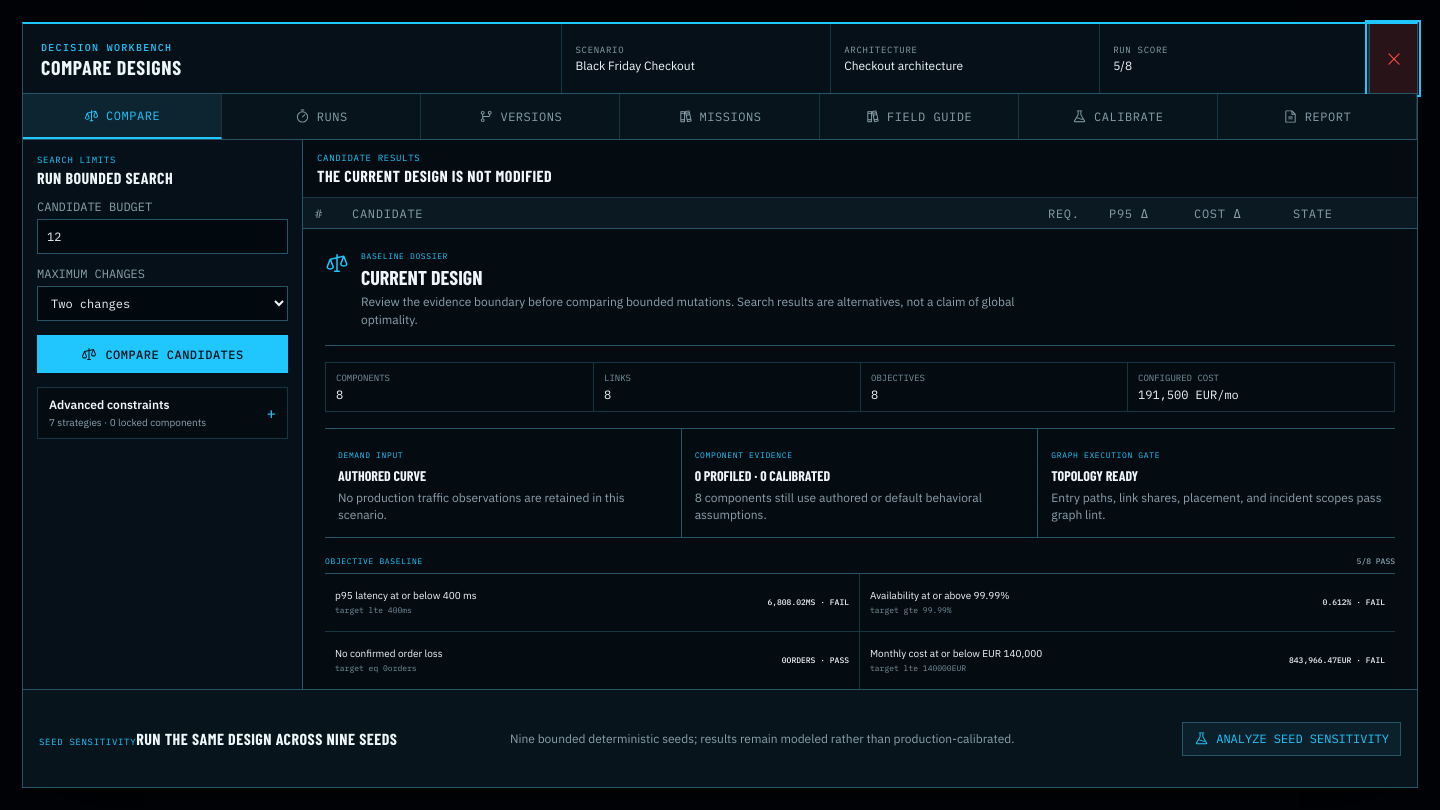
it: completed-run decision workbench › shows manifest identity, digest, snapshot, and explicit runtime boundaries
The image size is (1440, 810).
Click the tab "Report" at (1317, 116), box [1218,94,1417,139]
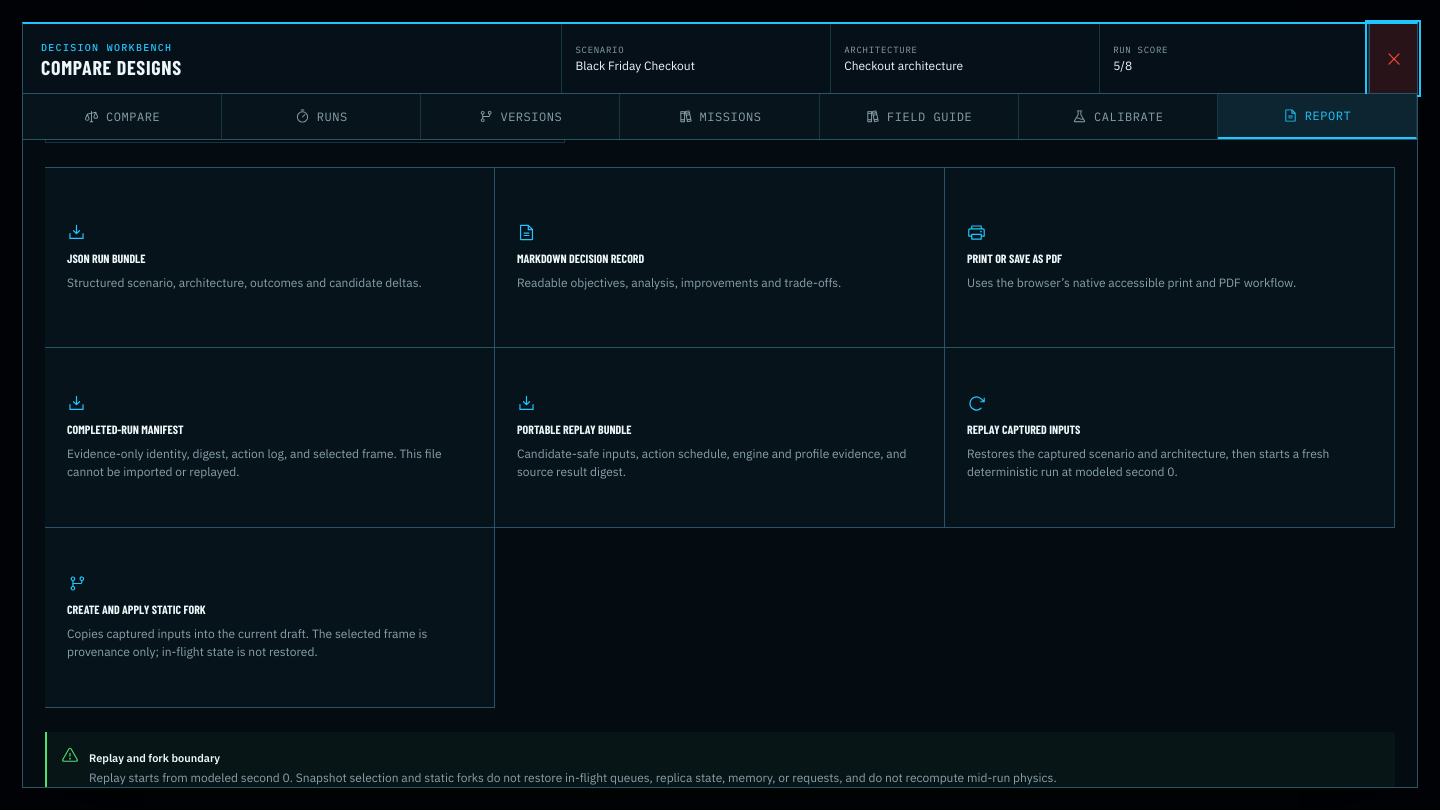
Now the text "do not restore in-flight queues" is shown, box [89,770,1057,785]
Now the button "Completed-run manifest" is enabled, box [45,348,495,528]
Now the button "Portable replay bundle" is enabled, box [495,348,945,528]
